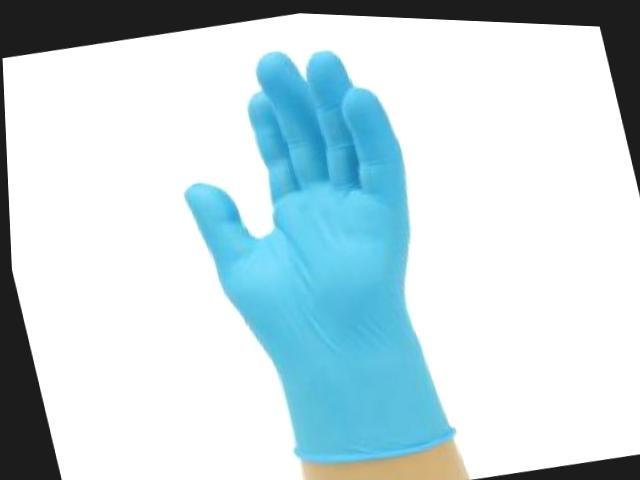Hand-in-Glove: (152, 18, 474, 480)
